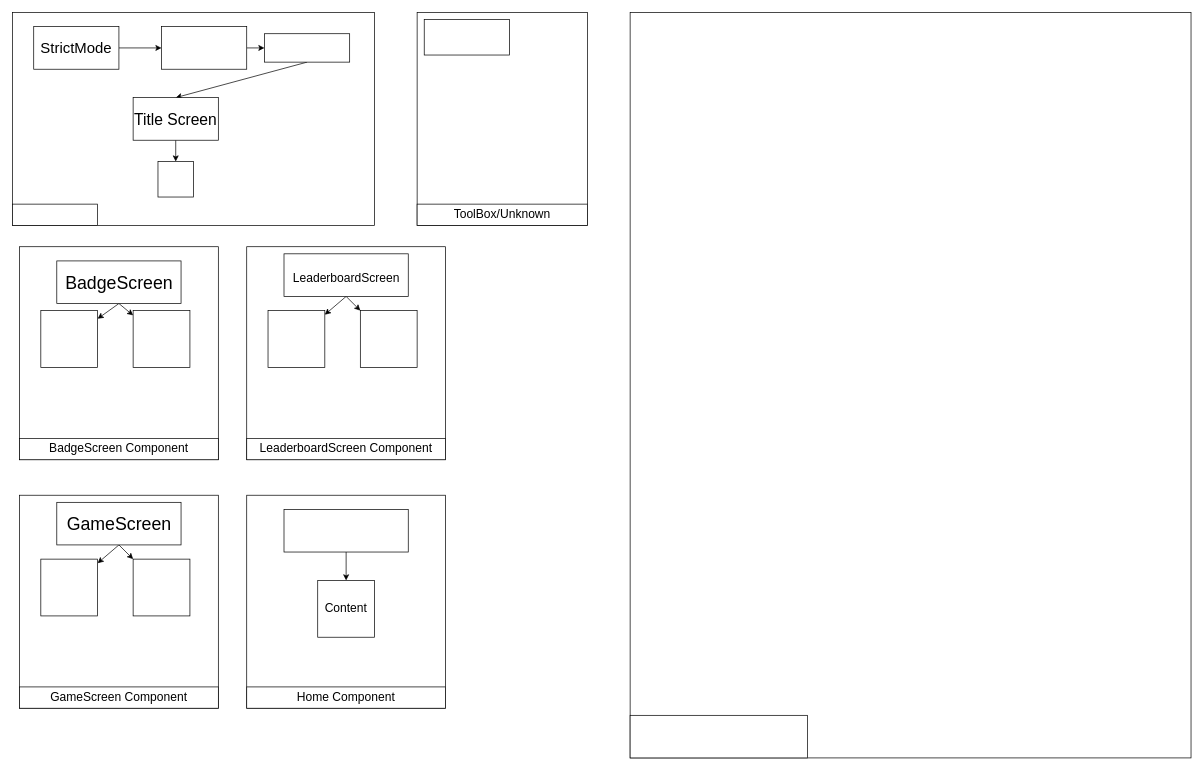
The diagram is 1203 pixels wide and 770 high, and some of its shapes have lost their labels. The shapes that lost their labels are listed below. From the top down, each one's centre as x and y in pixels, then its label:
(204,47): BrowserRouter
(307,47): App
(466,37): Header Component
(55,214): Main Group
(345,530): HomeScreen
(718,736): Game Stuff
